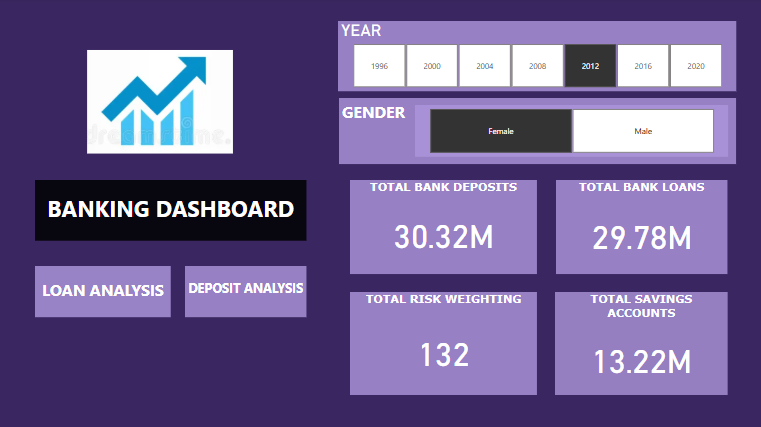

The dashboard page shown, as its layout file describes it:
{"tool":"powerbi","page":{"name":"Home","canvas":[1280,720],"ordinal":0},"visuals":[{"type":"image","box":[124,82,288,184],"z":0},{"type":"textbox","box":[58,450,228,86],"z":1000},{"type":"textbox","box":[310,450,204,86],"z":2000},{"type":"textbox","box":[569.4,168,666.9,110.9],"z":3000},{"type":"card","title":"TOTAL BANK DEPOSITS","fields":{"Values":["Sum(Banking_Clients.Bank Deposits)"]},"box":[588,306,314,158],"z":4000},{"type":"card","title":"TOTAL BANK LOANS","fields":{"Values":["Sum(Banking_Clients.Bank Loans)"]},"box":[934,306,288,158],"z":5000},{"type":"card","title":"TOTAL RISK WEIGHTING","fields":{"Values":["Sum(Banking_Clients.Risk Weighting)"]},"box":[587.9,493.9,314.1,173],"z":6000},{"type":"card","title":"TOTAL SAVINGS ACCOUNTS","fields":{"Values":["Sum(Banking_Clients.Saving Accounts)"]},"box":[931.7,493.3,290,173.3],"z":7000},{"type":"slicer","title":"Gender","fields":{"Values":["Banking_Clients.GenderId"]},"box":[697.1,179.7,525.8,87.3],"z":8000},{"type":"slicer","title":"YEAR","fields":{"Values":["Banking_Clients.Joined Bank.Variation.Date Hierarchy.Year"]},"box":[567.8,38.6,668.6,117.6],"z":9000},{"type":"textbox","box":[58,306,456,102],"z":10000},{"type":"actionButton","box":[66,464,220,60],"z":11000},{"type":"actionButton","box":[310,450,204,86],"z":12000}]}

Visuals, with their boxes in screenshot pixels (x1, y1, x2, y2), scaled from the page's 1280x720 canvas onto the 761x427 screenshot:
image: BBox(74, 49, 245, 158)
textbox: BBox(34, 267, 170, 318)
textbox: BBox(184, 267, 306, 318)
textbox: BBox(339, 100, 735, 165)
"TOTAL BANK DEPOSITS" card: BBox(350, 181, 536, 275)
"TOTAL BANK LOANS" card: BBox(555, 181, 727, 275)
"TOTAL RISK WEIGHTING" card: BBox(350, 293, 536, 396)
"TOTAL SAVINGS ACCOUNTS" card: BBox(554, 293, 726, 395)
"Gender" slicer: BBox(414, 107, 727, 158)
"YEAR" slicer: BBox(338, 23, 735, 93)
textbox: BBox(34, 181, 306, 242)
actionButton: BBox(39, 275, 170, 311)
actionButton: BBox(184, 267, 306, 318)
